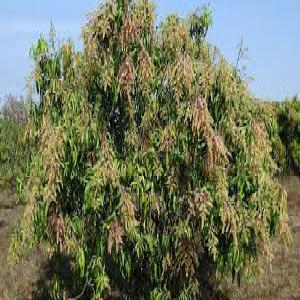Tree: (28, 5, 288, 293)
